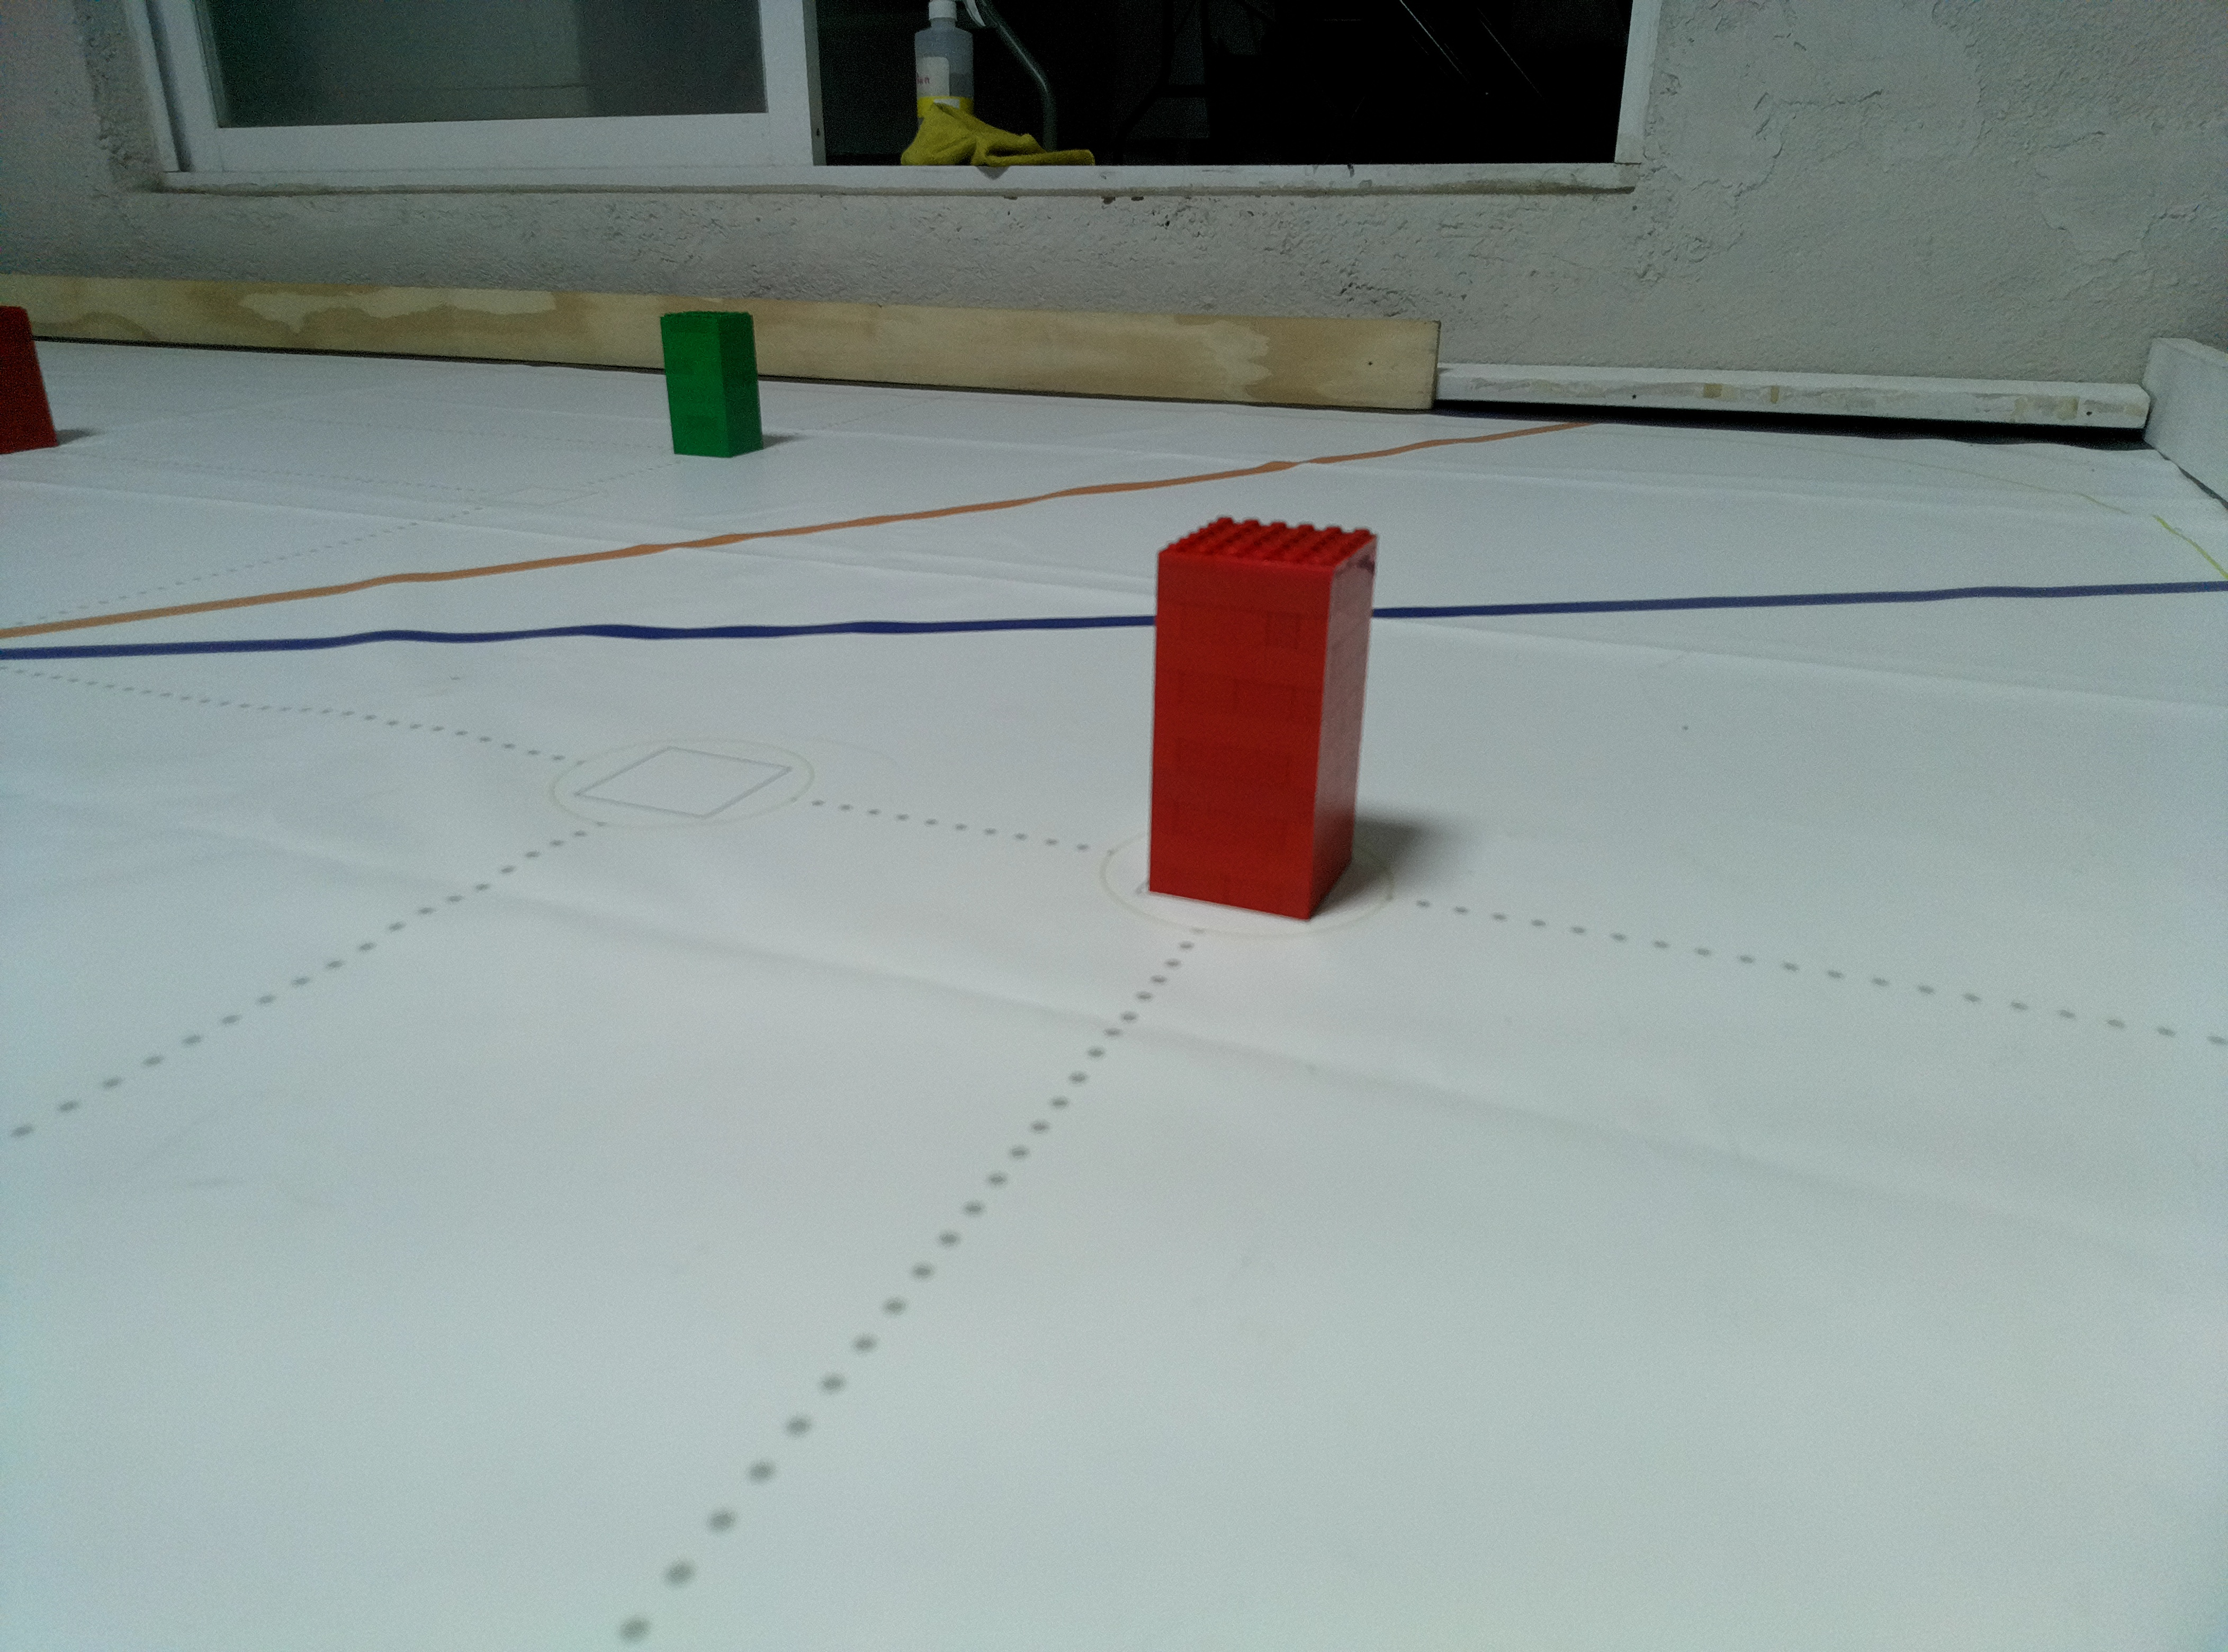greenbox: (658, 309, 765, 460)
redbox: (1145, 507, 1385, 921), (0, 302, 62, 458)
